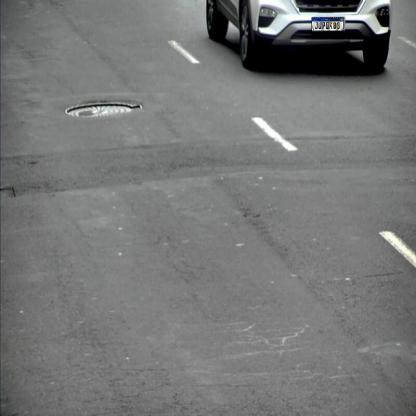PlacaM: (312, 18, 344, 31)
